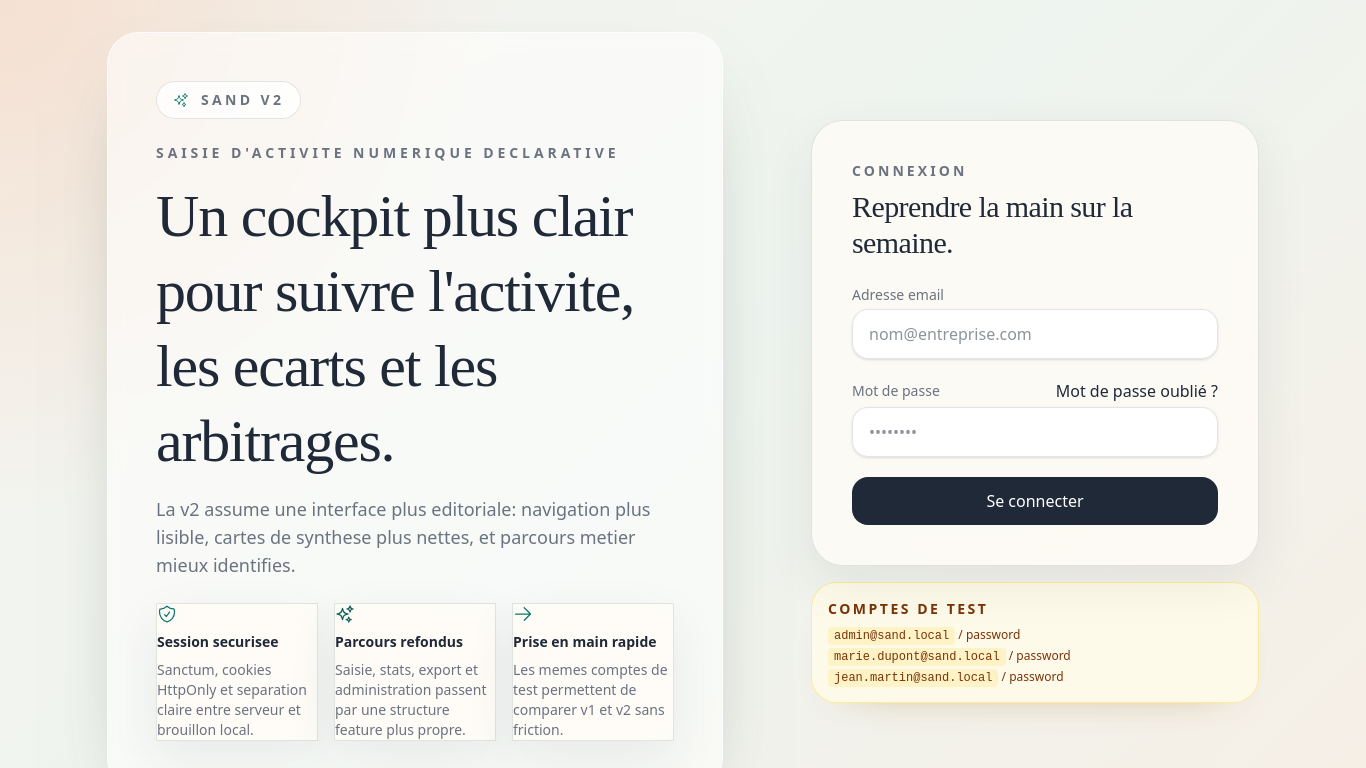
Test: LoginPage › affiche erreur si champs vides au submit
Click the button "Se connecter".
click(1035, 500)  # box [852, 476, 1218, 524]
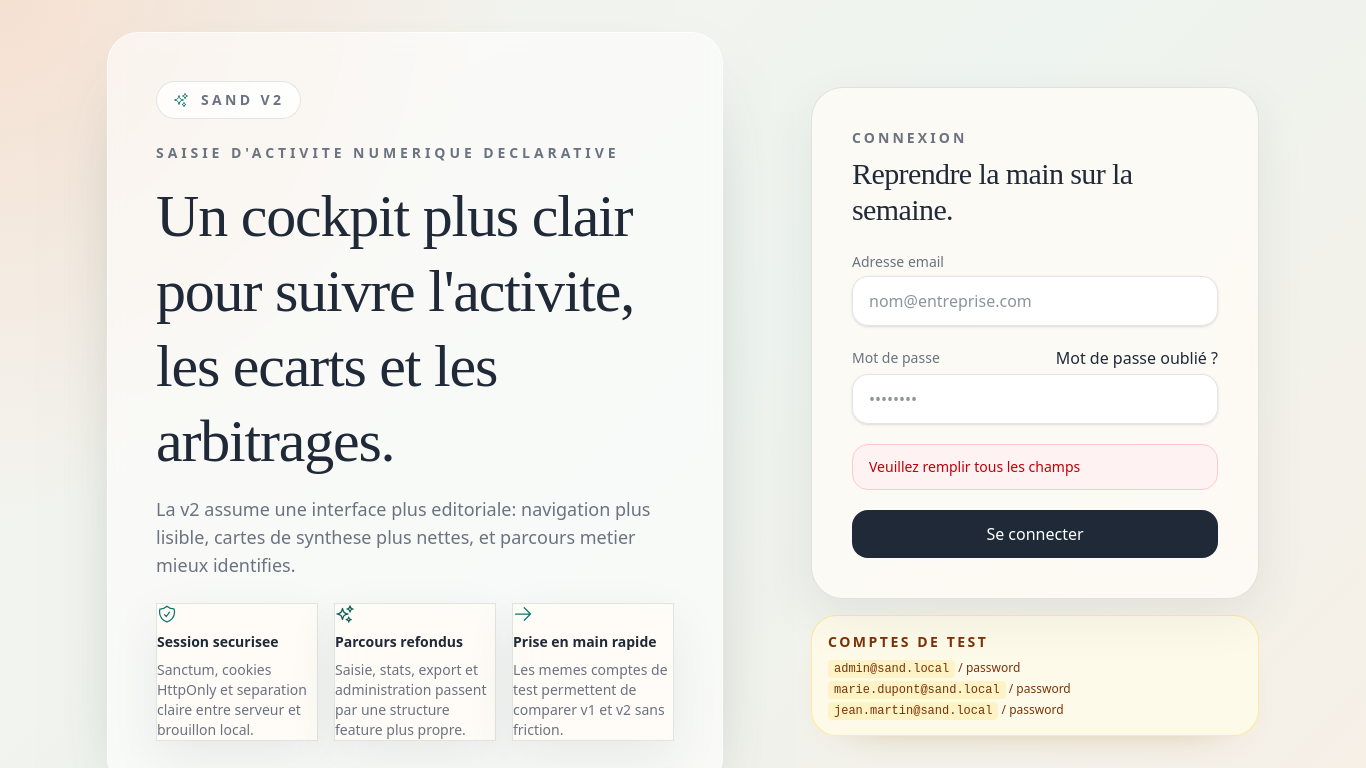
Expected: the text "Veuillez remplir tous les champs" is shown, [852, 444, 1218, 490]
